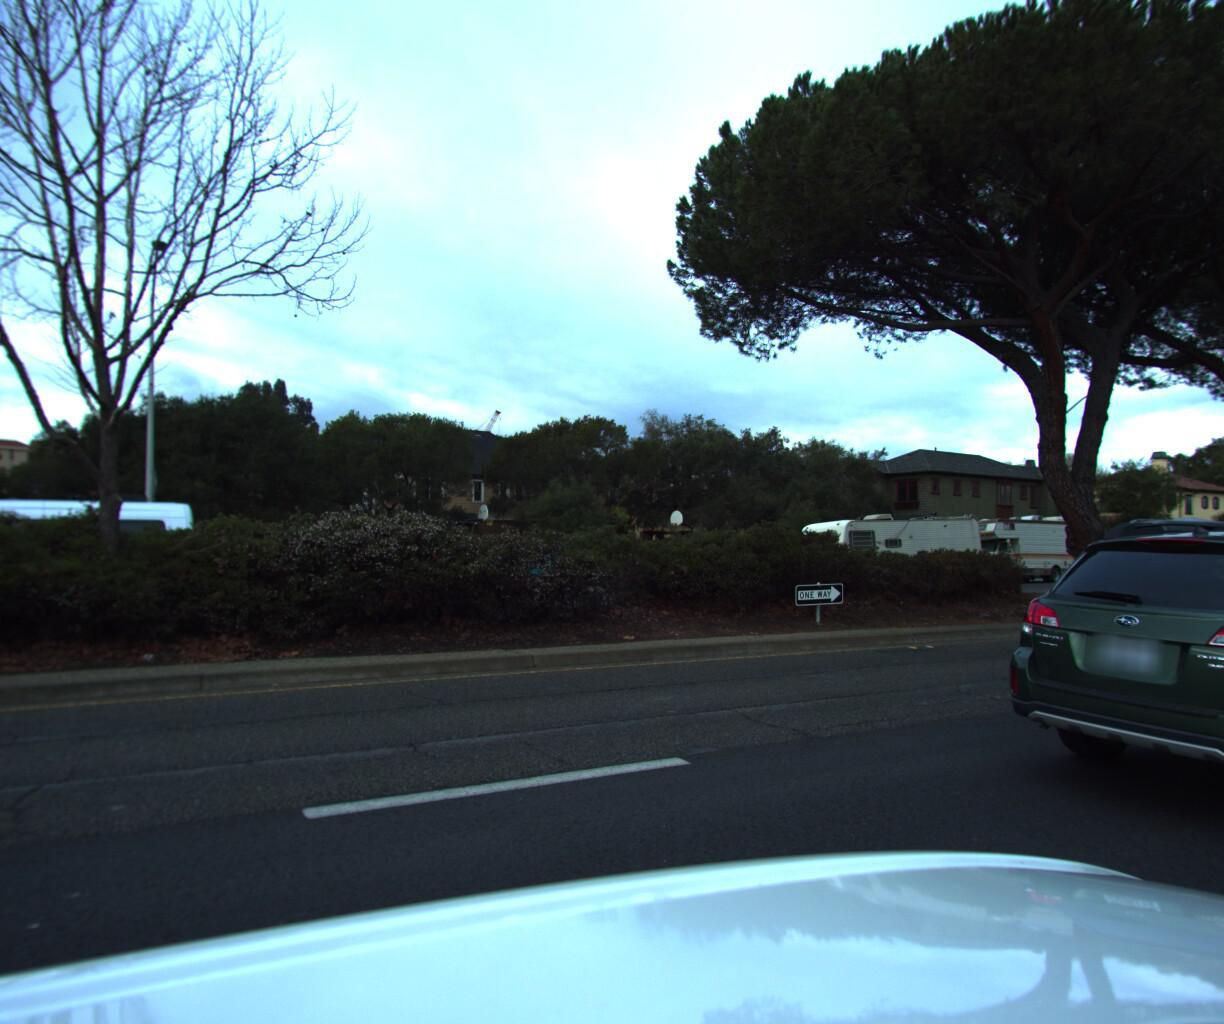car: (956, 498, 1224, 876), (0, 479, 209, 622)
other_vehicle: (786, 502, 987, 584), (936, 505, 1094, 576), (1100, 505, 1224, 573)
